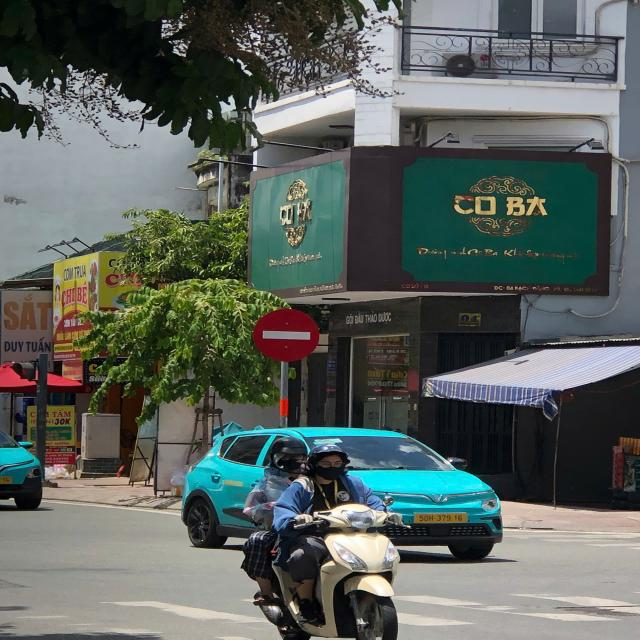Bien bao cam di nguoc chieu: (247, 304, 323, 366)
